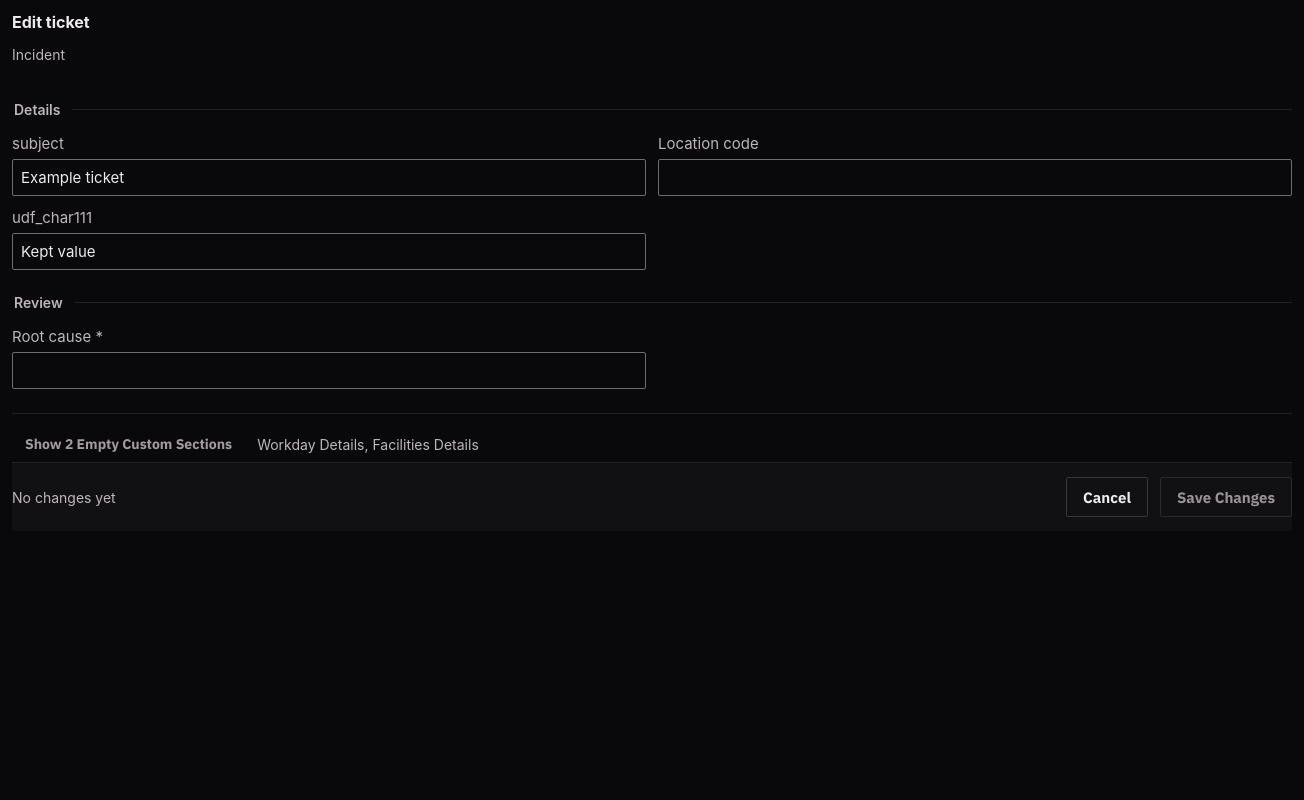
folds sections of optional, empty custom fields until the operator shows them
Check: the field labelled "Location code" is shown, box [658,159,1292,196]
Check: the field labelled "Root cause *" is shown, box [12,352,646,389]
Click the button "Show 2 Empty Custom Sections" at (129, 444), box [12,426,245,462]
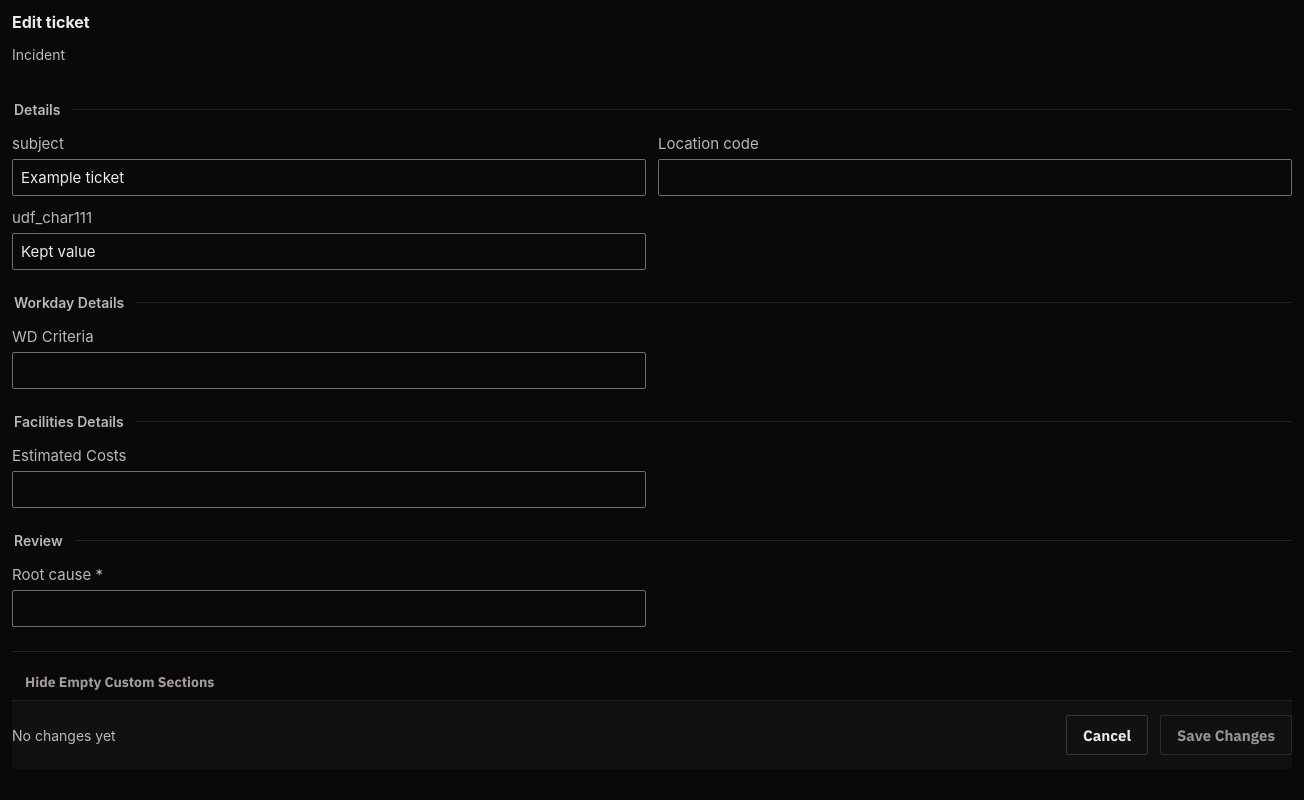
Type "Training" into the field labelled "WD Criteria" at (329, 370), box [12,352,646,389]
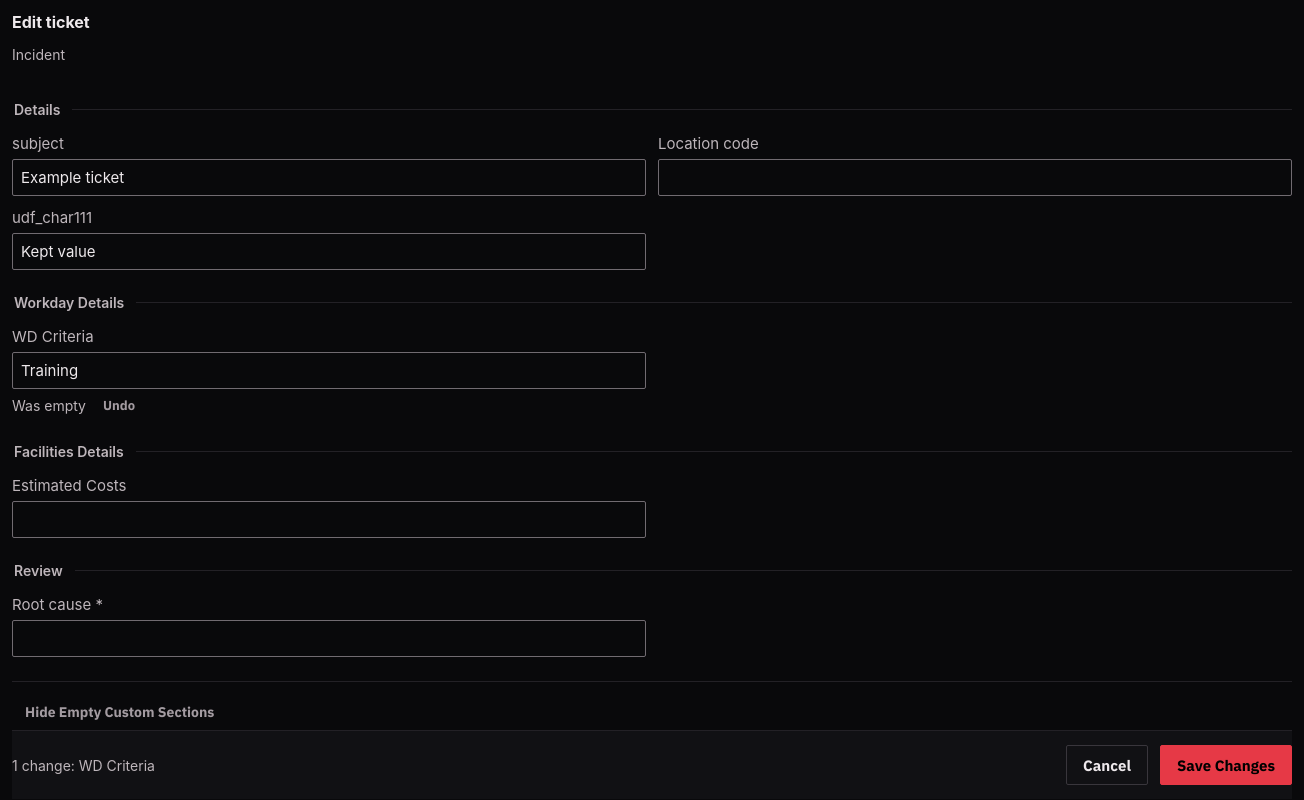
Click the button "Hide Empty Custom Sections" at (120, 712), box [12,694,227,730]
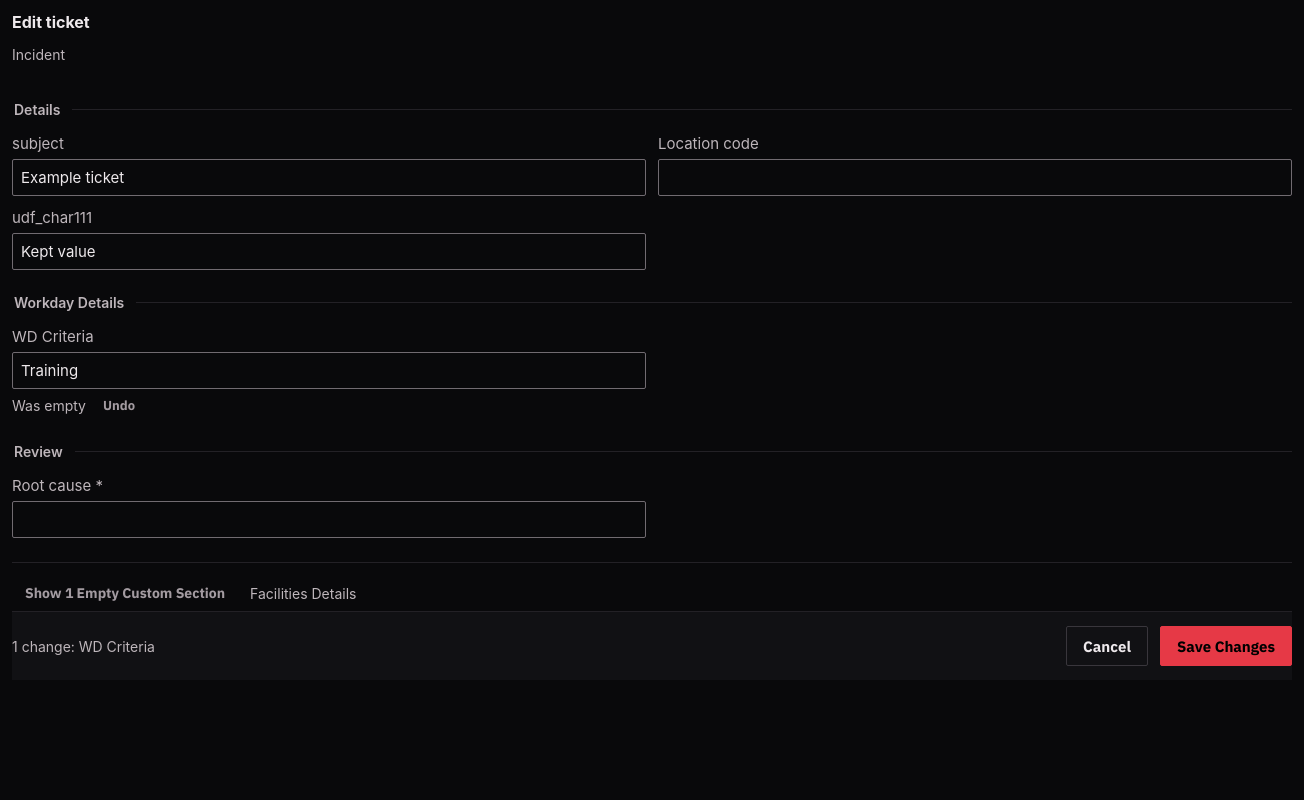
Check: the label labelled "Estimated Costs" is gone
Check: the button "Show 1 Empty Custom Section" is shown, box [12,575,238,611]
